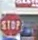stop: (0, 11, 23, 36)
